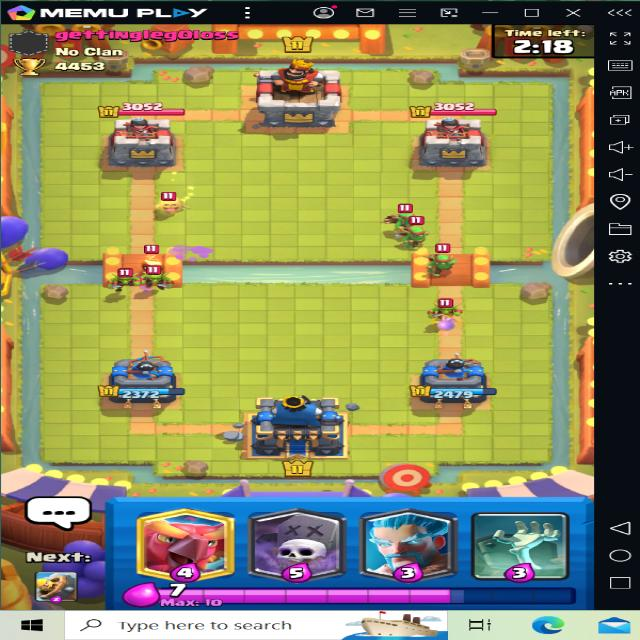fire-spirit: (128, 240, 178, 275)
goblin: (421, 293, 465, 327), (104, 267, 151, 297), (131, 263, 183, 290)
heal-spirit: (145, 182, 190, 216)
spear-goblin: (432, 244, 464, 276), (386, 202, 418, 229), (402, 220, 430, 241)
